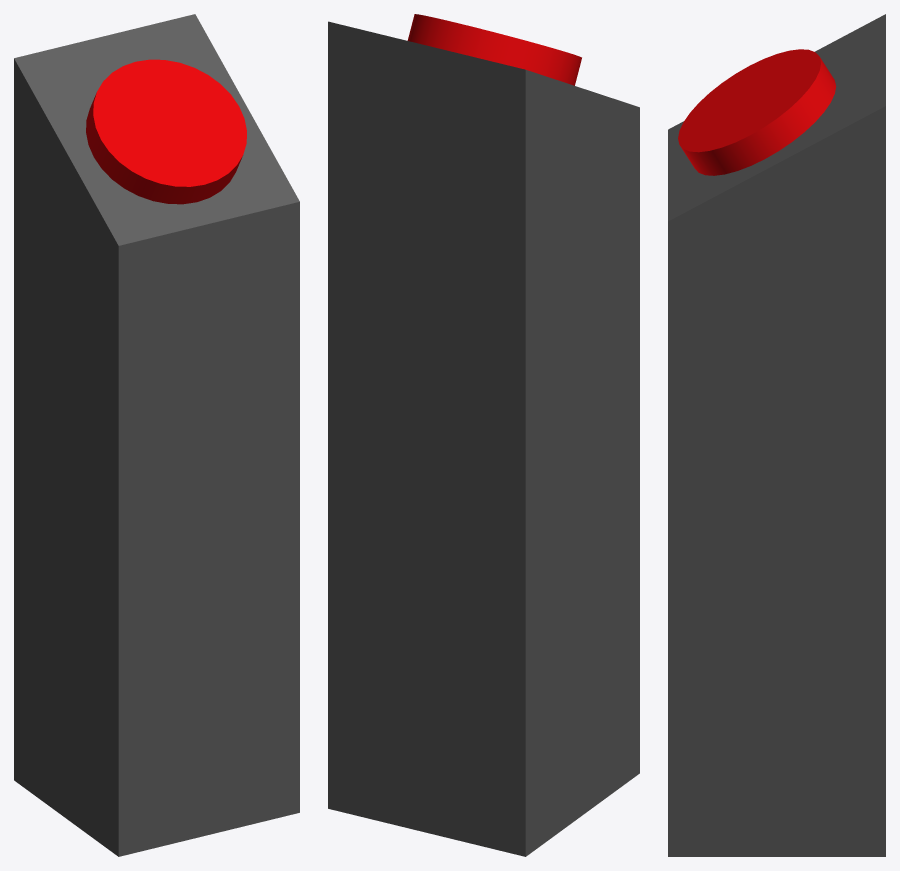
The model's file is Button.fbx.
3 renders of one model, left to right at view 1: azimuth 30°, elevation 25°; view 2: azimuth 150°, elevation 25°; view 3: azimuth 270°, elevation 25°, orthographic. The views are drawn at different scales.
Parts seen in each view (by area): view 1: Handle, Button; view 2: Handle, Button; view 3: Handle, Button.
Boxes of the visible parts, box(x1,y1,x2,y2) form: Handle: box(14, 14, 299, 856); Button: box(86, 59, 246, 204); Handle: box(328, 21, 639, 856); Button: box(407, 14, 581, 85); Handle: box(668, 14, 885, 856); Button: box(678, 49, 836, 175).
Bounding box in the file's own units: 34.16 × 130 × 34.16.
